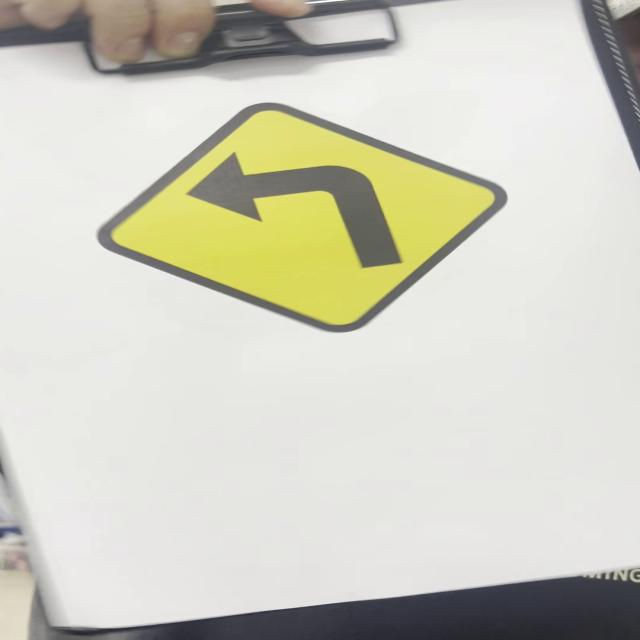left: (99, 104, 509, 334)
